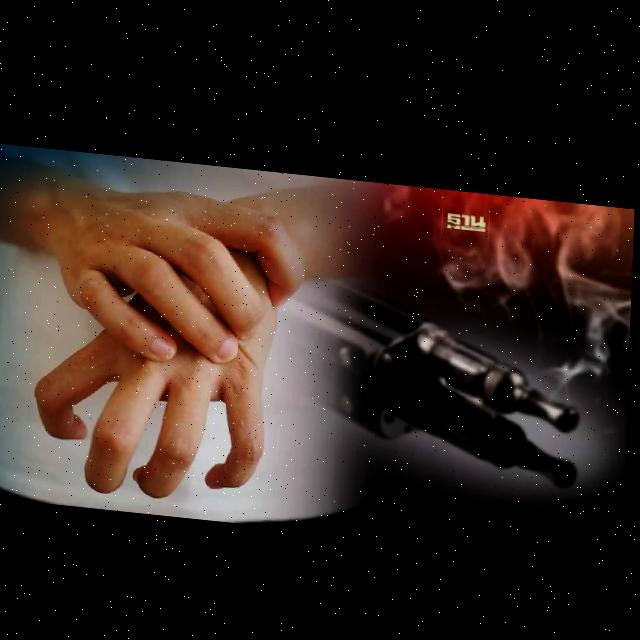vape: (278, 266, 586, 424)
